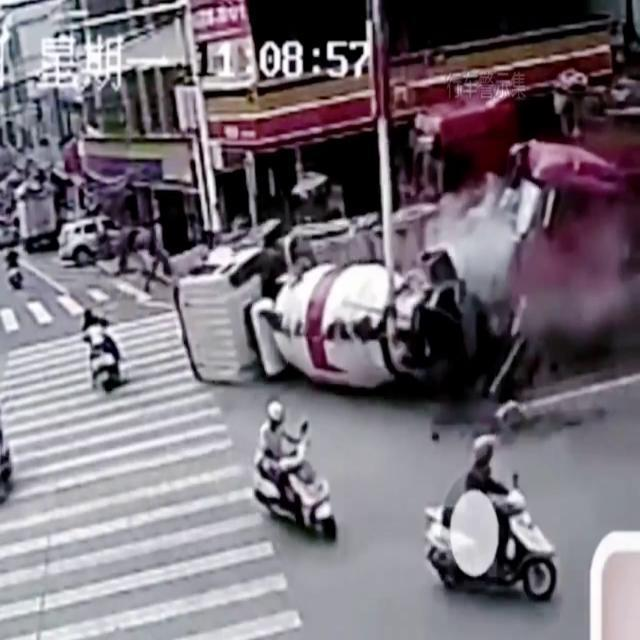accident: (172, 69, 640, 391)
non-accident: (18, 180, 150, 268)
